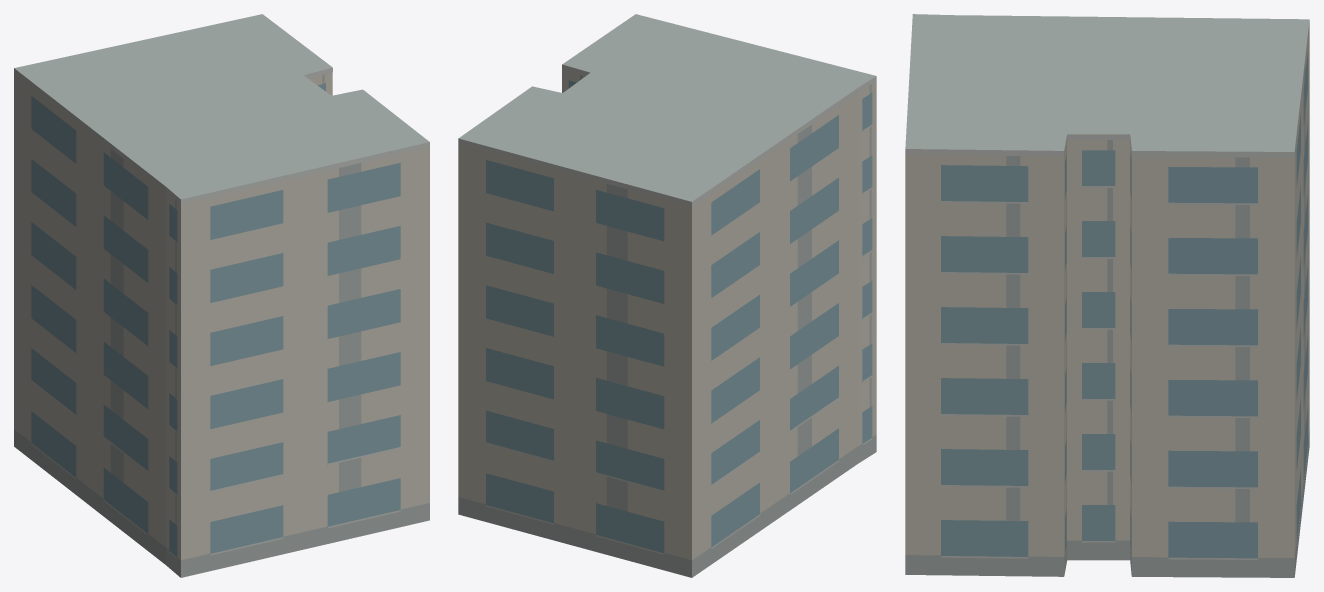
The model's file is survey-upis-32971154.glb.
The picture shows the model from 3 angles, left to right: view 1: azimuth 30°, elevation 25°; view 2: azimuth 150°, elevation 25°; view 3: azimuth 270°, elevation 25°; orthographic projection. The views are drawn at different scales.
Visible parts, largest first — view 1: survey-upis-32971154.tmp; view 2: survey-upis-32971154.tmp; view 3: survey-upis-32971154.tmp.
Part boxes in pixels (bbox=[...]): survey-upis-32971154.tmp: bbox=[14, 14, 429, 577]; survey-upis-32971154.tmp: bbox=[458, 14, 876, 577]; survey-upis-32971154.tmp: bbox=[905, 14, 1309, 577].
Size of the model in its own units: 12.73 by 18.3 by 15.75.
